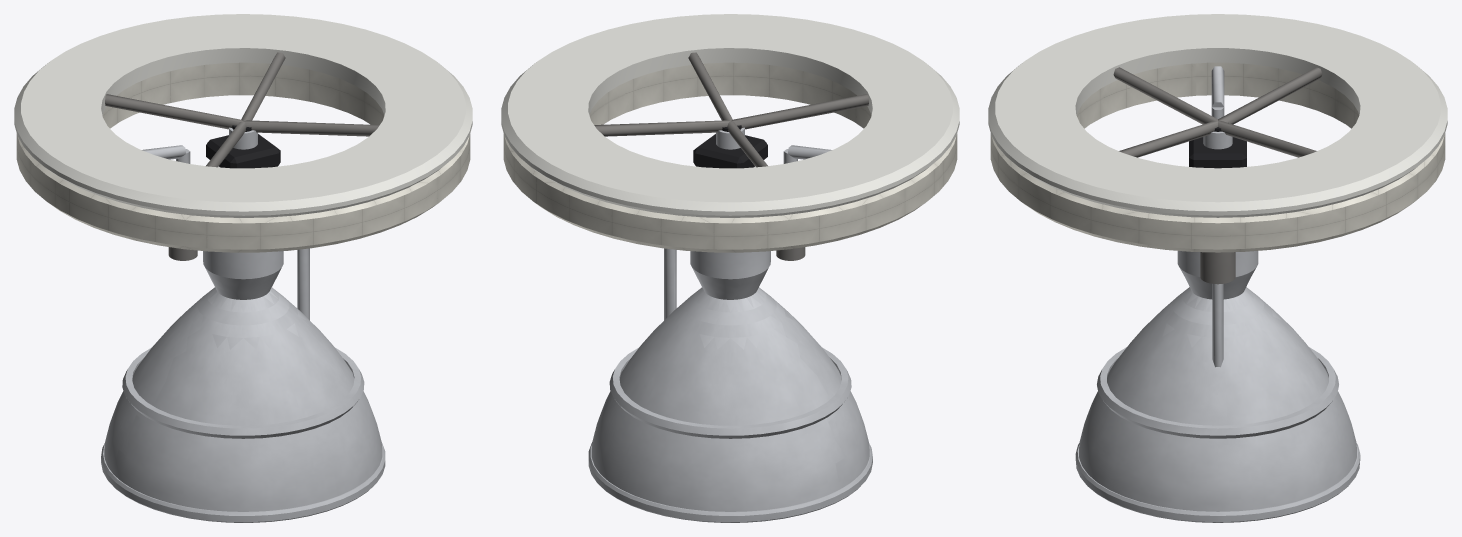
The model's file is ax_prop_09_descent_engine.glb.
The picture shows the model from 3 angles, left to right: view 1: azimuth 30°, elevation 25°; view 2: azimuth 150°, elevation 25°; view 3: azimuth 270°, elevation 25°; orthographic projection.
Parts seen in each view (by area): view 1: mount_ring, regen_nozzle, thermal_blanket_ring, thrust_struts, regen_manifold, nozzle_lip, chamber, gimbal, plumbing; view 2: mount_ring, regen_nozzle, thermal_blanket_ring, thrust_struts, regen_manifold, nozzle_lip, chamber, gimbal, plumbing; view 3: mount_ring, regen_nozzle, thermal_blanket_ring, thrust_struts, regen_manifold, nozzle_lip, chamber, plumbing, gimbal, turbopumps.
Part boxes in pixels (<box>): mount_ring: <box>14,14,472,217</box>; regen_nozzle: <box>104,287,382,511</box>; thermal_blanket_ring: <box>16,62,470,252</box>; thrust_struts: <box>105,52,379,167</box>; regen_manifold: <box>122,347,364,438</box>; nozzle_lip: <box>101,442,385,522</box>; chamber: <box>203,251,283,299</box>; gimbal: <box>206,125,280,168</box>; plumbing: <box>142,145,309,320</box>; mount_ring: <box>501,14,959,217</box>; regen_nozzle: <box>591,287,869,511</box>; thermal_blanket_ring: <box>503,62,957,252</box>; thrust_struts: <box>594,52,868,167</box>; regen_manifold: <box>609,347,851,438</box>; nozzle_lip: <box>588,442,872,522</box>; chamber: <box>690,251,770,299</box>; gimbal: <box>693,125,767,168</box>; plumbing: <box>664,145,831,320</box>; mount_ring: <box>988,14,1447,217</box>; regen_nozzle: <box>1079,287,1356,511</box>; thermal_blanket_ring: <box>990,62,1445,252</box>; thrust_struts: <box>1113,67,1322,157</box>; regen_manifold: <box>1097,347,1338,438</box>; nozzle_lip: <box>1075,443,1360,522</box>; chamber: <box>1177,251,1258,299</box>; plumbing: <box>1211,66,1224,367</box>; gimbal: <box>1189,127,1246,168</box>; turbopumps: <box>1200,252,1235,284</box>.
Bounding box in the file's own units: 2.5 × 2.13 × 2.5.
Materials: 5 (3 with a texture image).
